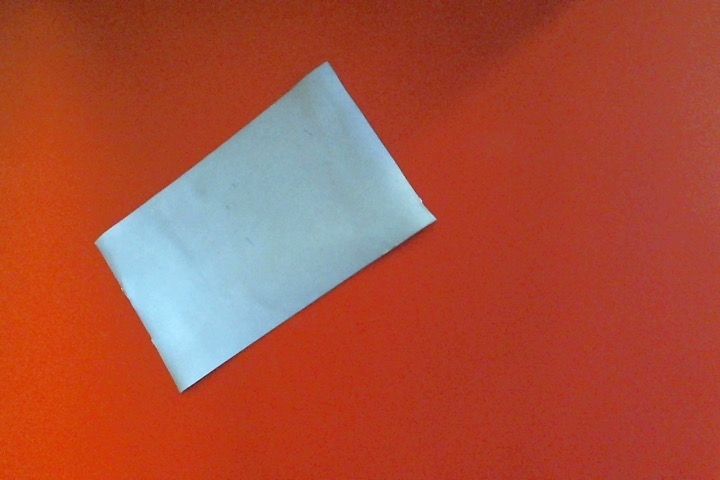Tape: (93, 61, 438, 394)
